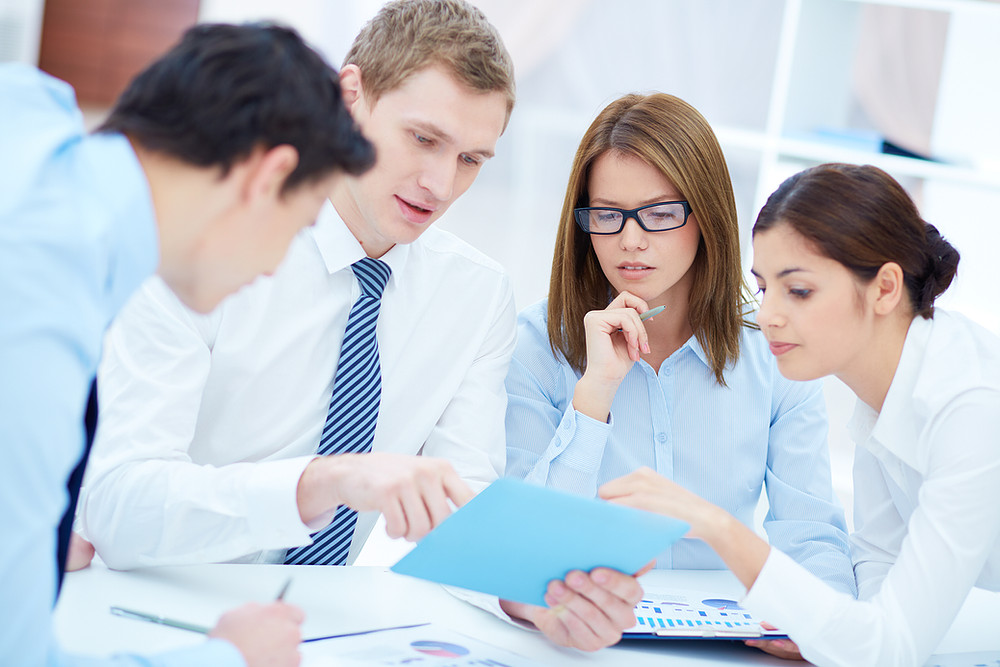without_mask: (334, 82, 507, 247), (191, 145, 339, 313), (749, 229, 850, 385), (587, 162, 698, 300)
